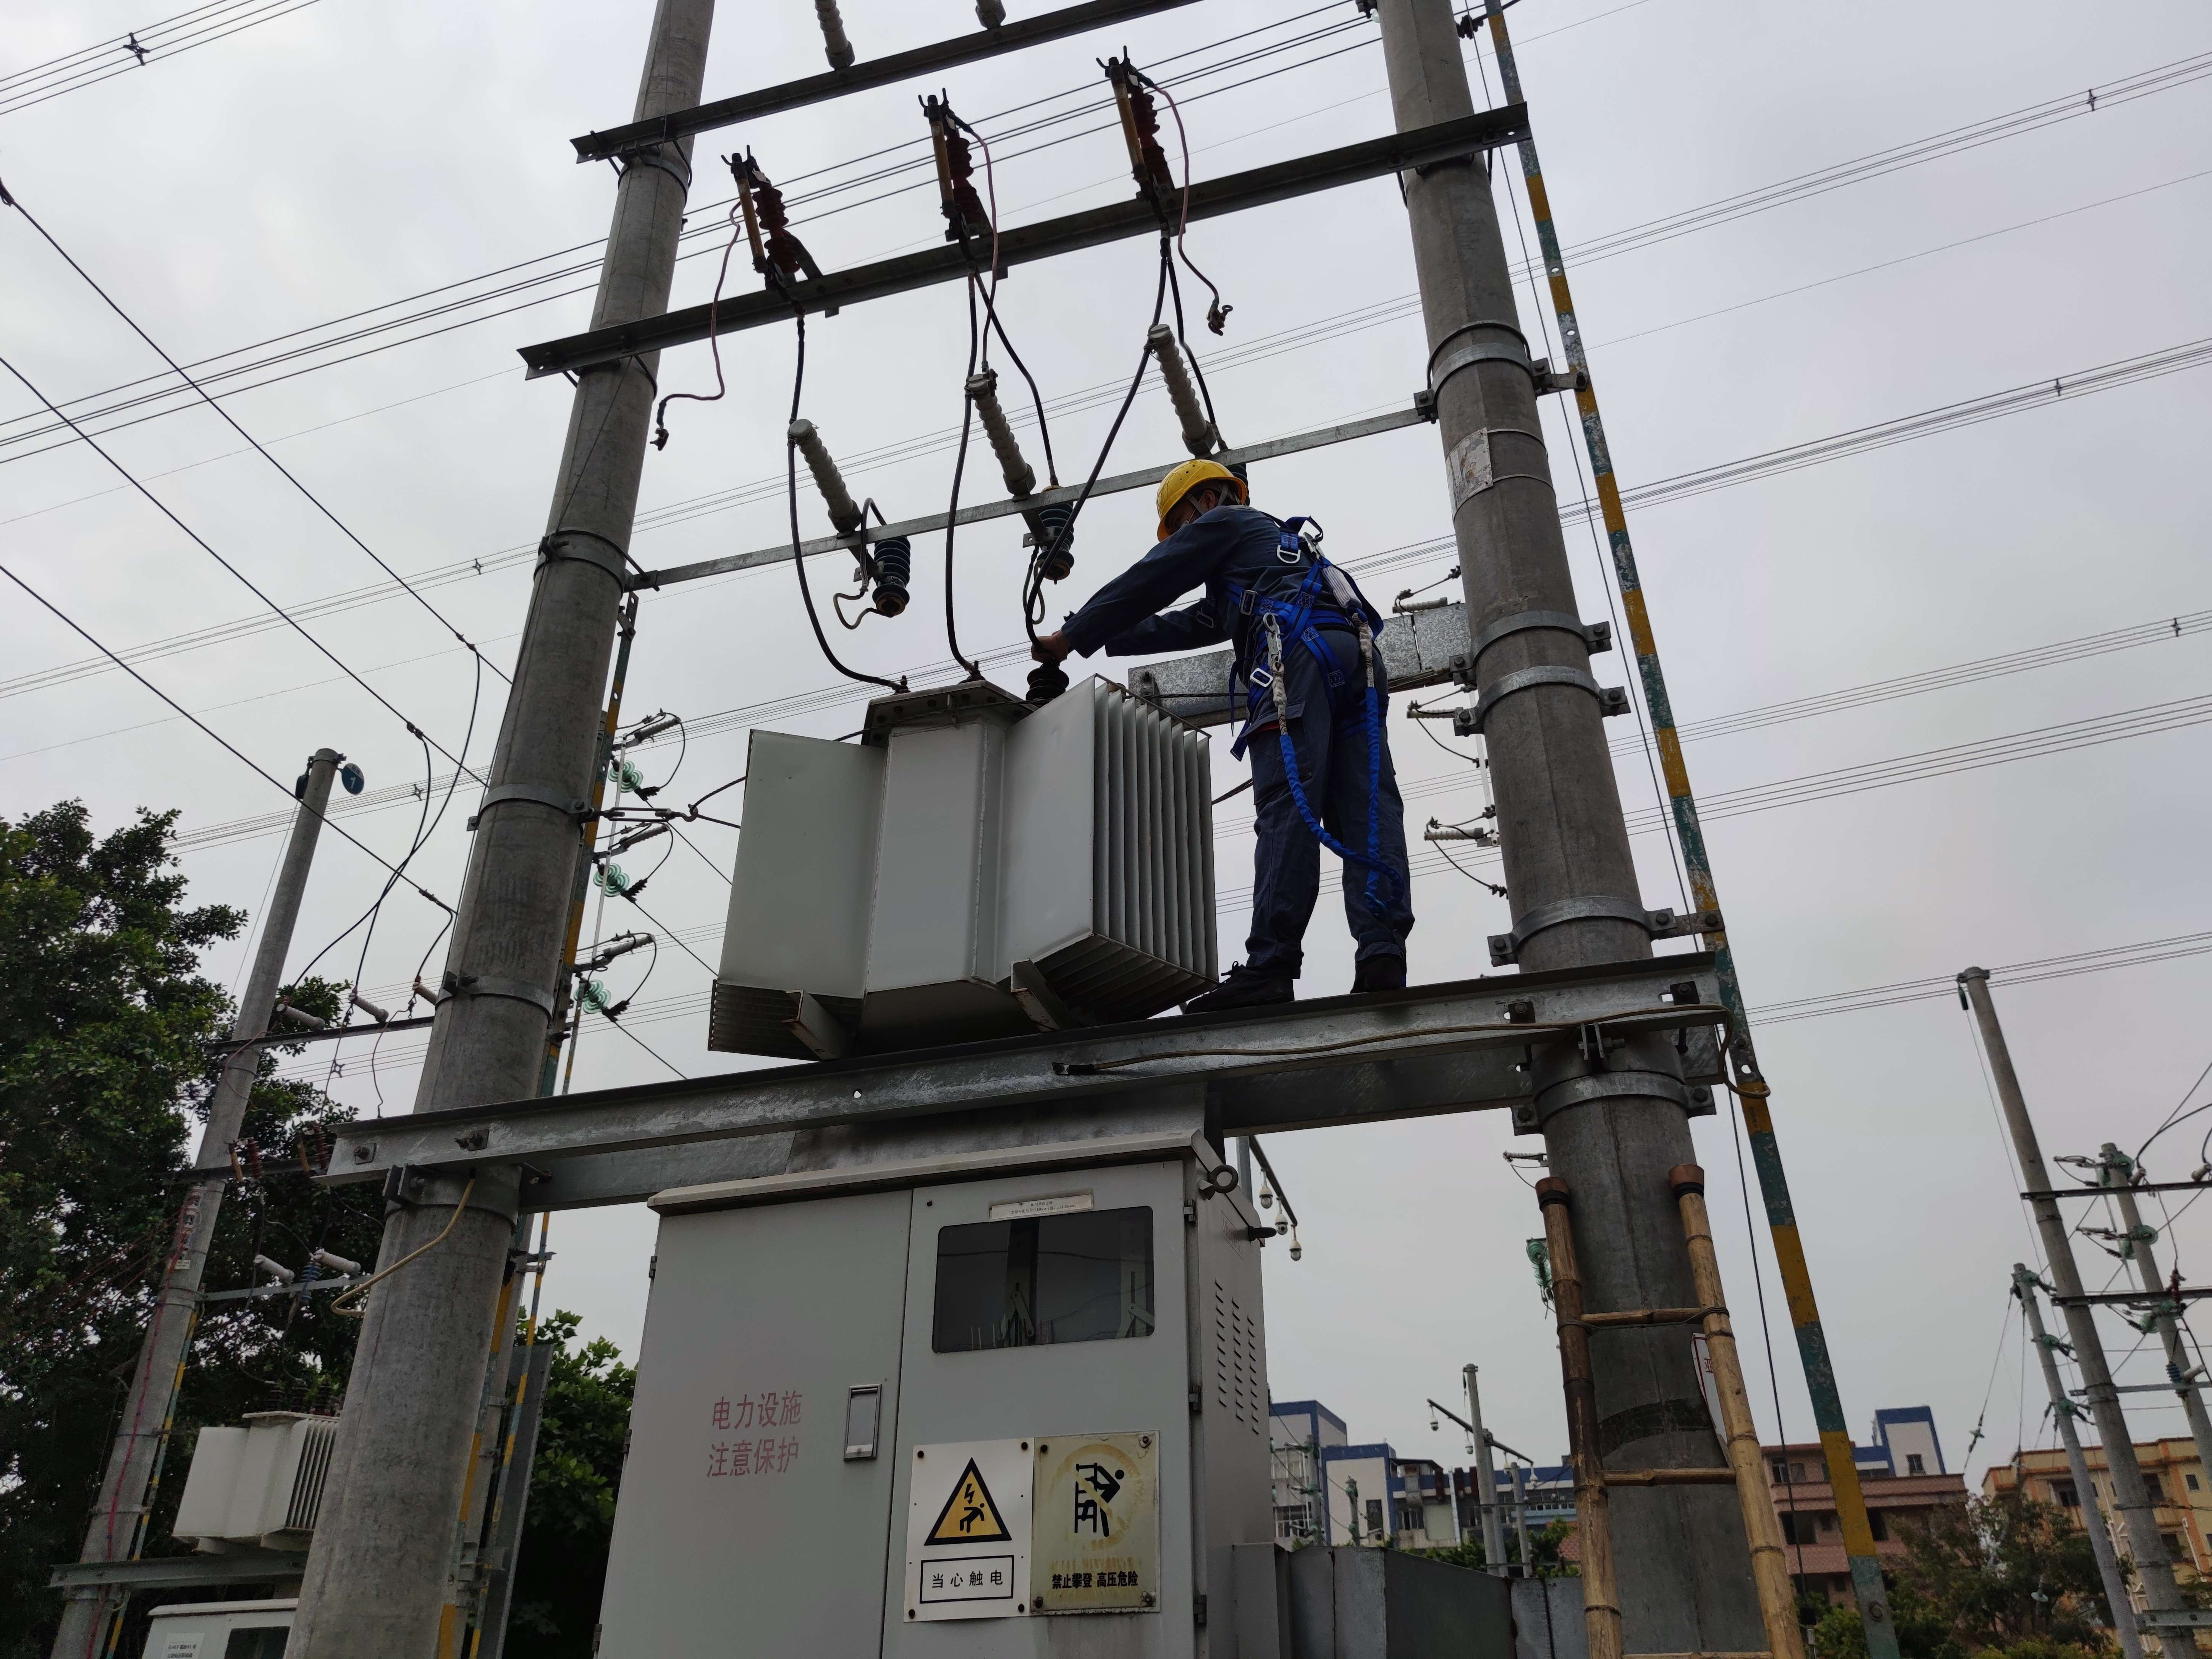downsuit: (1247, 653, 1413, 969)
upsuit: (1186, 511, 1383, 634)
